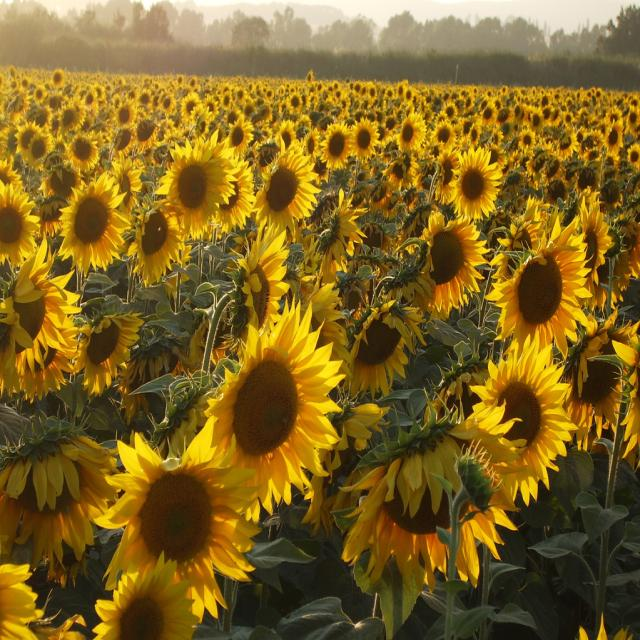sunflower: (196, 292, 348, 526), (334, 400, 506, 596), (111, 420, 259, 636), (451, 339, 578, 511), (0, 420, 118, 569), (488, 218, 592, 368), (300, 392, 390, 534), (0, 261, 81, 400), (88, 545, 202, 640), (235, 226, 302, 358), (414, 208, 488, 320), (66, 289, 142, 396), (168, 134, 240, 242), (343, 295, 420, 395), (58, 172, 125, 277), (257, 148, 324, 228), (317, 190, 368, 285), (134, 203, 183, 293), (451, 143, 509, 215), (213, 148, 257, 235), (0, 178, 41, 267), (320, 115, 358, 168), (352, 109, 386, 161), (599, 121, 635, 166), (65, 131, 102, 174), (394, 111, 431, 154), (49, 101, 86, 138), (131, 113, 162, 156), (225, 116, 255, 154), (536, 150, 568, 183), (13, 116, 38, 158), (177, 84, 202, 124), (25, 130, 49, 168), (274, 119, 298, 156), (114, 99, 138, 135), (433, 121, 456, 152), (45, 62, 68, 90), (516, 126, 536, 154), (80, 85, 100, 112), (478, 103, 500, 127), (438, 101, 461, 123), (289, 88, 303, 118), (158, 91, 177, 112), (32, 80, 46, 104)
